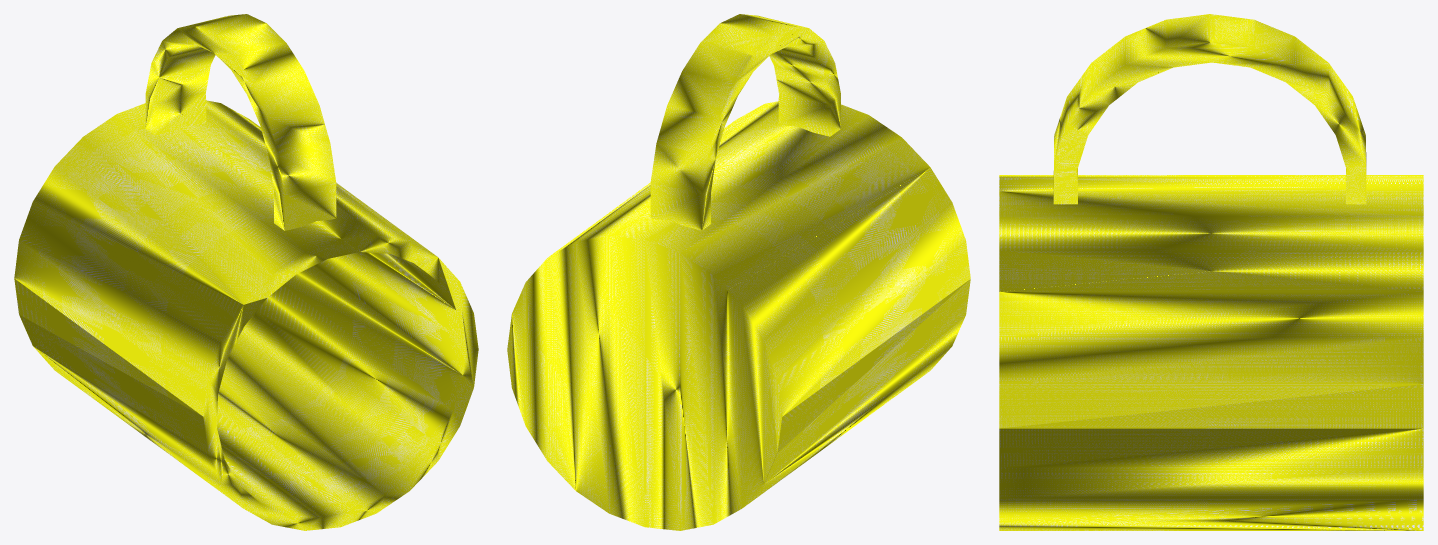
The model's file is model_align.obj.
3 views of the same model, side by side, from view 1: azimuth 30°, elevation 25°; view 2: azimuth 150°, elevation 25°; view 3: azimuth 270°, elevation 25° (orthographic). The views are drawn at different scales.
Bounding box in the file's own units: 0.0754 × 0.1125 × 0.0895.
